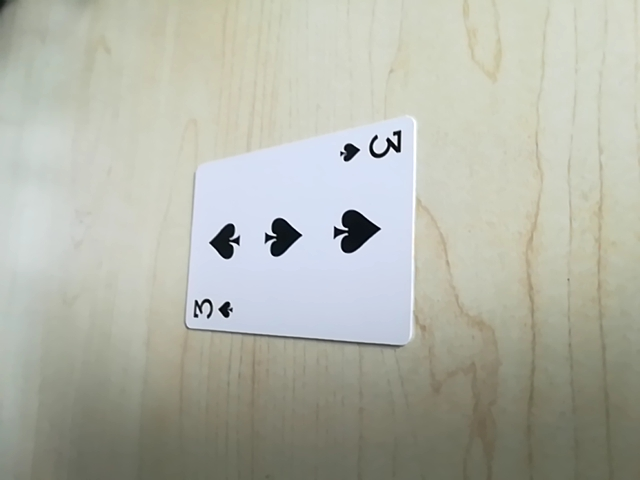ht 3: (335, 126, 407, 165), (185, 292, 241, 327)
